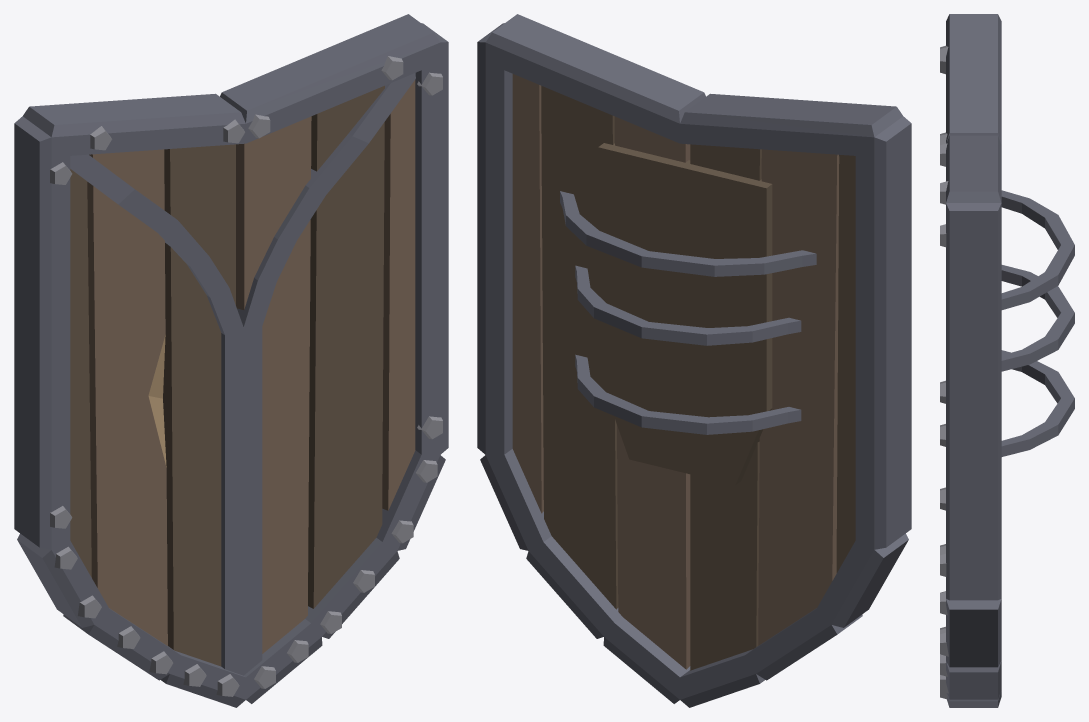
The model's file is shield_13.glb.
3 views of the same model, side by side, from view 1: azimuth 30°, elevation 25°; view 2: azimuth 150°, elevation 25°; view 3: azimuth 270°, elevation 25° (orthographic). The views are drawn at different scales.
Visible parts, largest first — view 1: shield_13; view 2: shield_13; view 3: shield_13.
Boxes of the visible parts, x1=… form: shield_13: x1=14, y1=14, x2=448, y2=707; shield_13: x1=477, y1=14, x2=911, y2=707; shield_13: x1=940, y1=14, x2=1074, y2=707.
Size of the model in its own units: 0.6531 by 0.9576 by 0.1944.
Materials: 1 (1 with a texture image).
